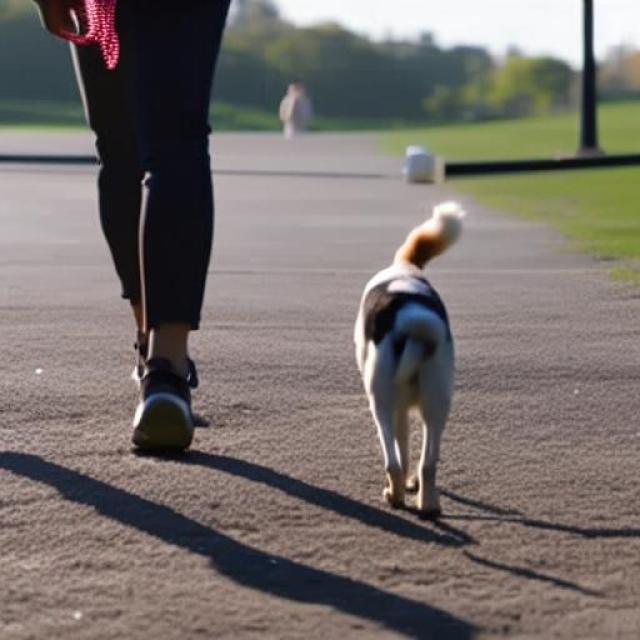Unleashed_Dog: (70, 0, 468, 514)
